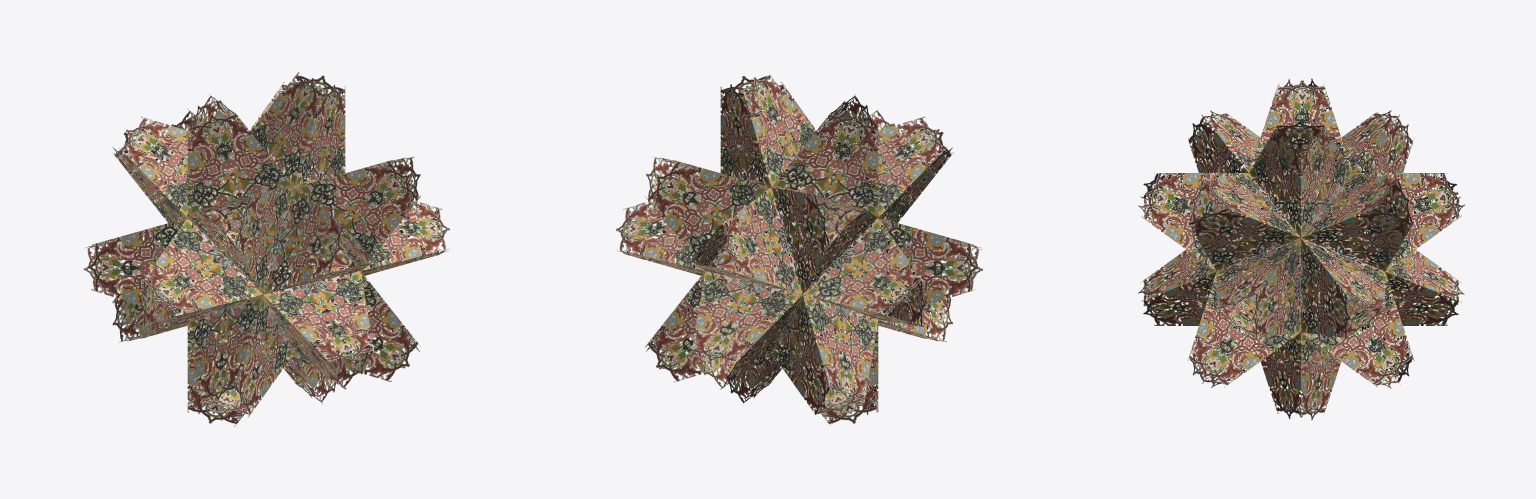
Rendered from GreatStellatedDodecahedron10.obj.
3 renders of one model, left to right at view 1: azimuth 30°, elevation 25°; view 2: azimuth 150°, elevation 25°; view 3: azimuth 270°, elevation 25°, orthographic. The views are drawn at different scales.
Bounding box in the file's own units: 1 × 1 × 1.
Materials: 1 (1 with a texture image).
